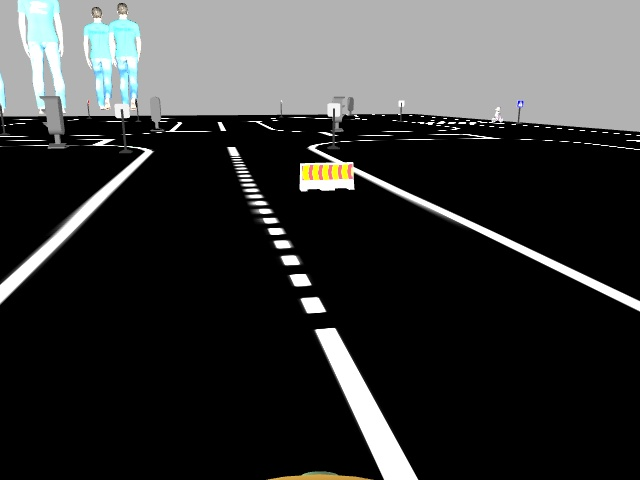ClosedRoadStand: (300, 163, 353, 183)
